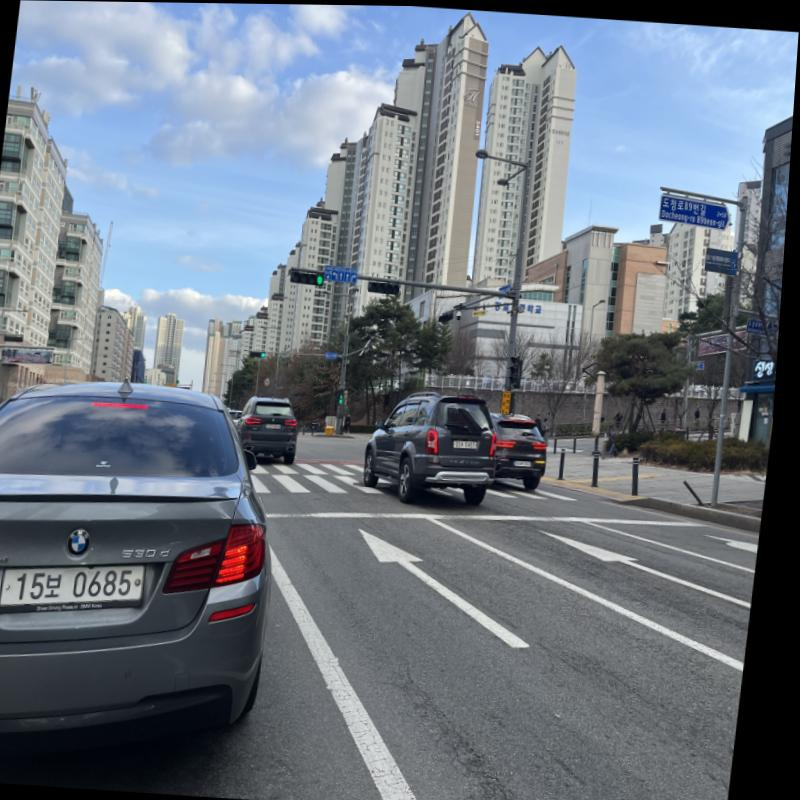green: (320, 274, 328, 285), (266, 352, 270, 357)
